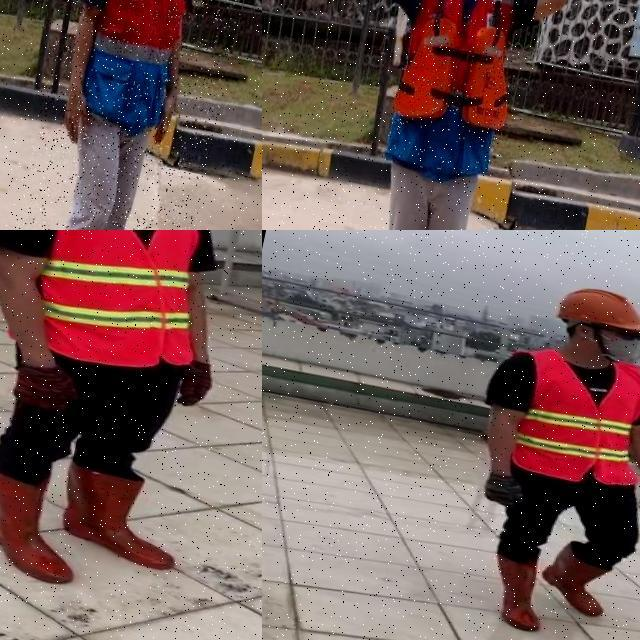boots: (50, 458, 190, 573), (0, 463, 92, 585), (537, 538, 617, 618), (481, 554, 554, 632)
helmet: (548, 274, 640, 339)
vest: (12, 230, 220, 376), (380, 0, 533, 182), (59, 0, 210, 153), (497, 344, 640, 495)
